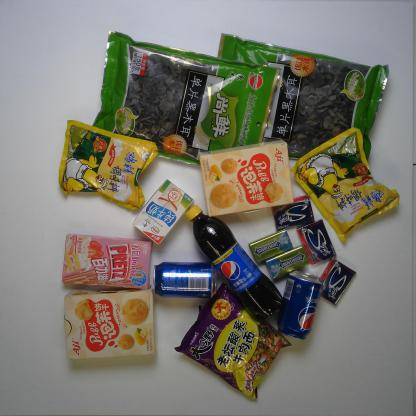Dessert: (200, 139, 294, 217), (65, 286, 155, 362), (62, 234, 154, 290)
Dried Food: (86, 29, 283, 184), (200, 32, 390, 176)
Drink: (184, 205, 284, 322), (277, 271, 324, 340), (154, 261, 218, 299)
Gum: (311, 259, 356, 305), (297, 218, 336, 265), (266, 244, 312, 282), (272, 194, 314, 230), (248, 231, 293, 264)
Instant Noodles: (175, 282, 292, 402)
Milk: (132, 179, 194, 245)
Seasoner: (290, 127, 400, 245), (59, 121, 158, 211)
